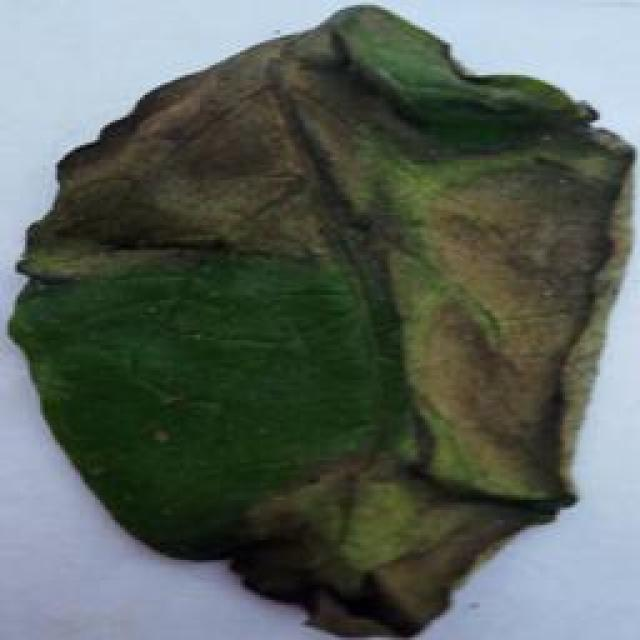Potato_Late_Blight: (11, 5, 622, 634)
